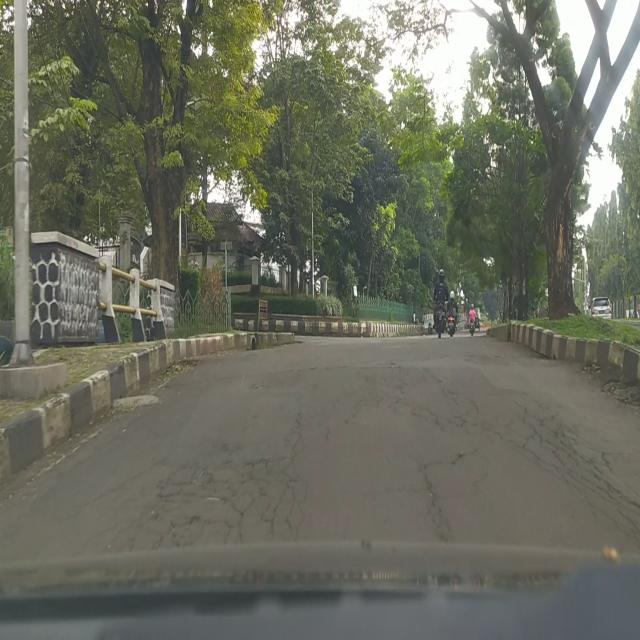Drain Hole: (133, 437, 304, 553), (528, 402, 640, 541)
